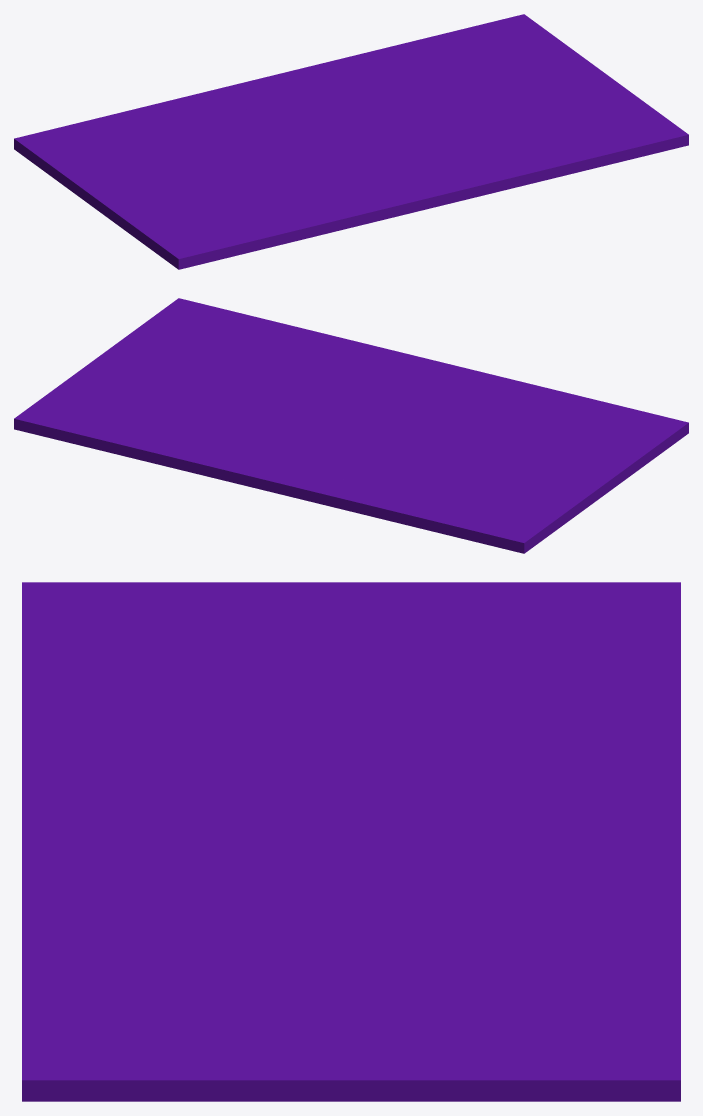
The model's file is Exhibition_19.006_chunks.fbx.
The picture shows the model from 3 angles, top to bottom: view 1: azimuth 30°, elevation 25°; view 2: azimuth 150°, elevation 25°; view 3: azimuth 270°, elevation 25°; orthographic projection. The views are drawn at different scales.
Visible parts, largest first — view 1: Exhibition_19.006_2, Exhibition_19.006_0, Exhibition_19.006_1, Exhibition_19.006_5, Exhibition_19.006_4, Exhibition_19.006_3; view 2: Exhibition_19.006_2, Exhibition_19.006_0, Exhibition_19.006_5, Exhibition_19.006_1, Exhibition_19.006_4, Exhibition_19.006_3; view 3: Exhibition_19.006_2, Exhibition_19.006_0, Exhibition_19.006_1, Exhibition_19.006_5, Exhibition_19.006_4, Exhibition_19.006_3, Exhibition_19.006_6.
Boxes of the visible parts, x1,y1,x2,y2 form: Exhibition_19.006_2: (353,14,688,205); Exhibition_19.006_0: (23,134,369,232); Exhibition_19.006_1: (101,152,440,269); Exhibition_19.006_5: (213,21,493,119); Exhibition_19.006_4: (14,90,233,158); Exhibition_19.006_3: (203,116,371,139); Exhibition_19.006_2: (14,298,432,435); Exhibition_19.006_0: (347,406,651,543); Exhibition_19.006_5: (41,421,355,505); Exhibition_19.006_1: (375,360,688,489); Exhibition_19.006_4: (325,472,537,553); Exhibition_19.006_3: (307,421,430,473); Exhibition_19.006_2: (22,829,680,1101); Exhibition_19.006_0: (168,582,644,834); Exhibition_19.006_1: (22,582,267,831); Exhibition_19.006_5: (400,774,680,1050); Exhibition_19.006_4: (489,582,680,775); Exhibition_19.006_3: (358,719,538,862); Exhibition_19.006_6: (529,762,643,783).
Bounding box in the file's own units: 642 × 12.85 × 359.
